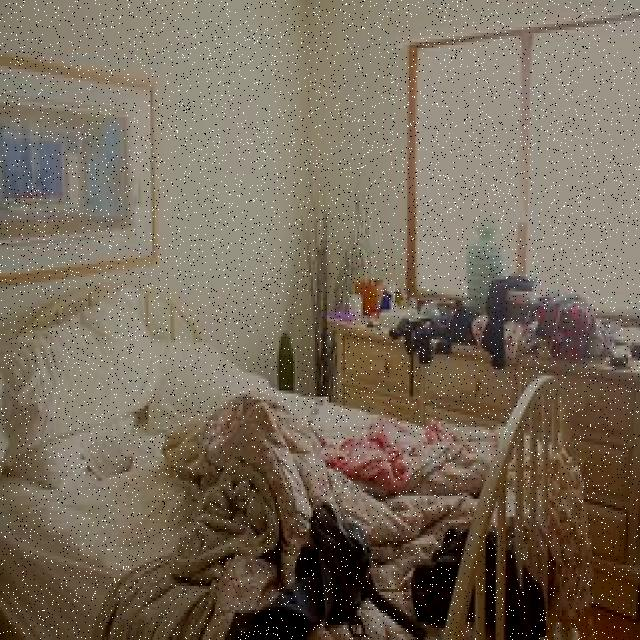bed: (0, 282, 565, 640)
